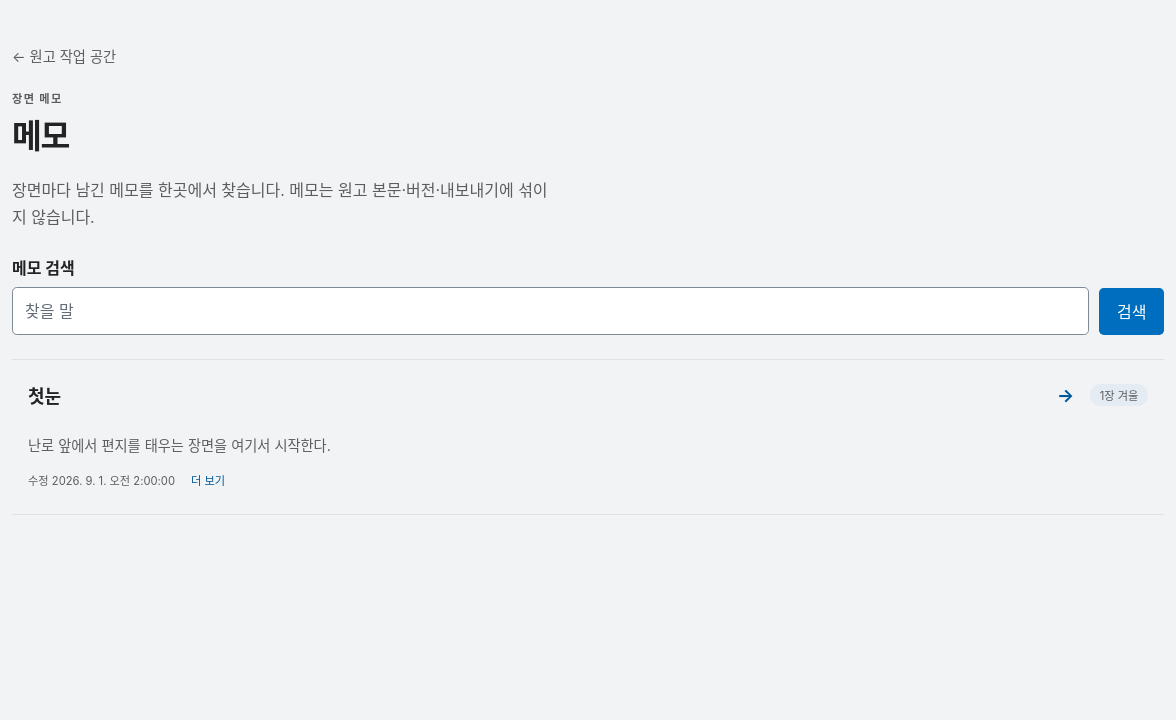
장면 메모 화면 › keeps the preview on screen when the full body cannot be read
This screenshot has width=1176, height=720.
Expected: the link "첫눈 →" is shown, [28,385,1074,407]
Click the button "더 보기" at (208, 480), box [191,462,225,498]
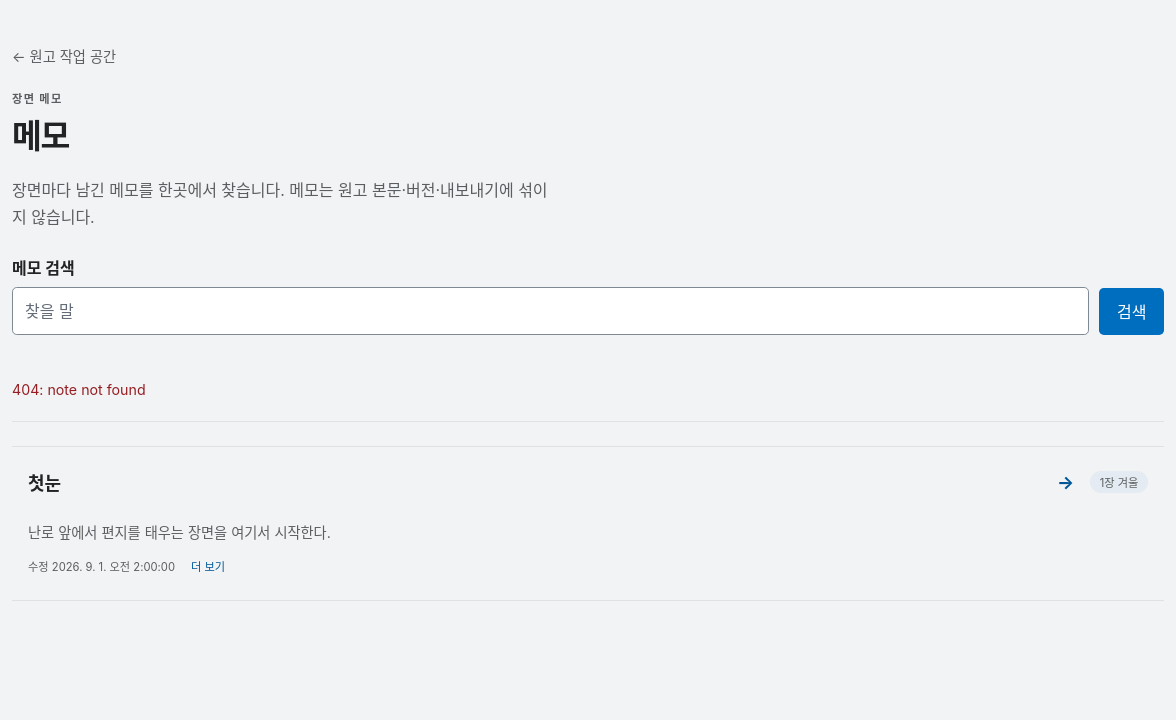
Expected: the text "난로 앞에서 편지를 태우는 장면을 여기서 시작한다." is shown, [28,524,331,540]
Expected: the message shows "note not found", [12,381,146,398]
